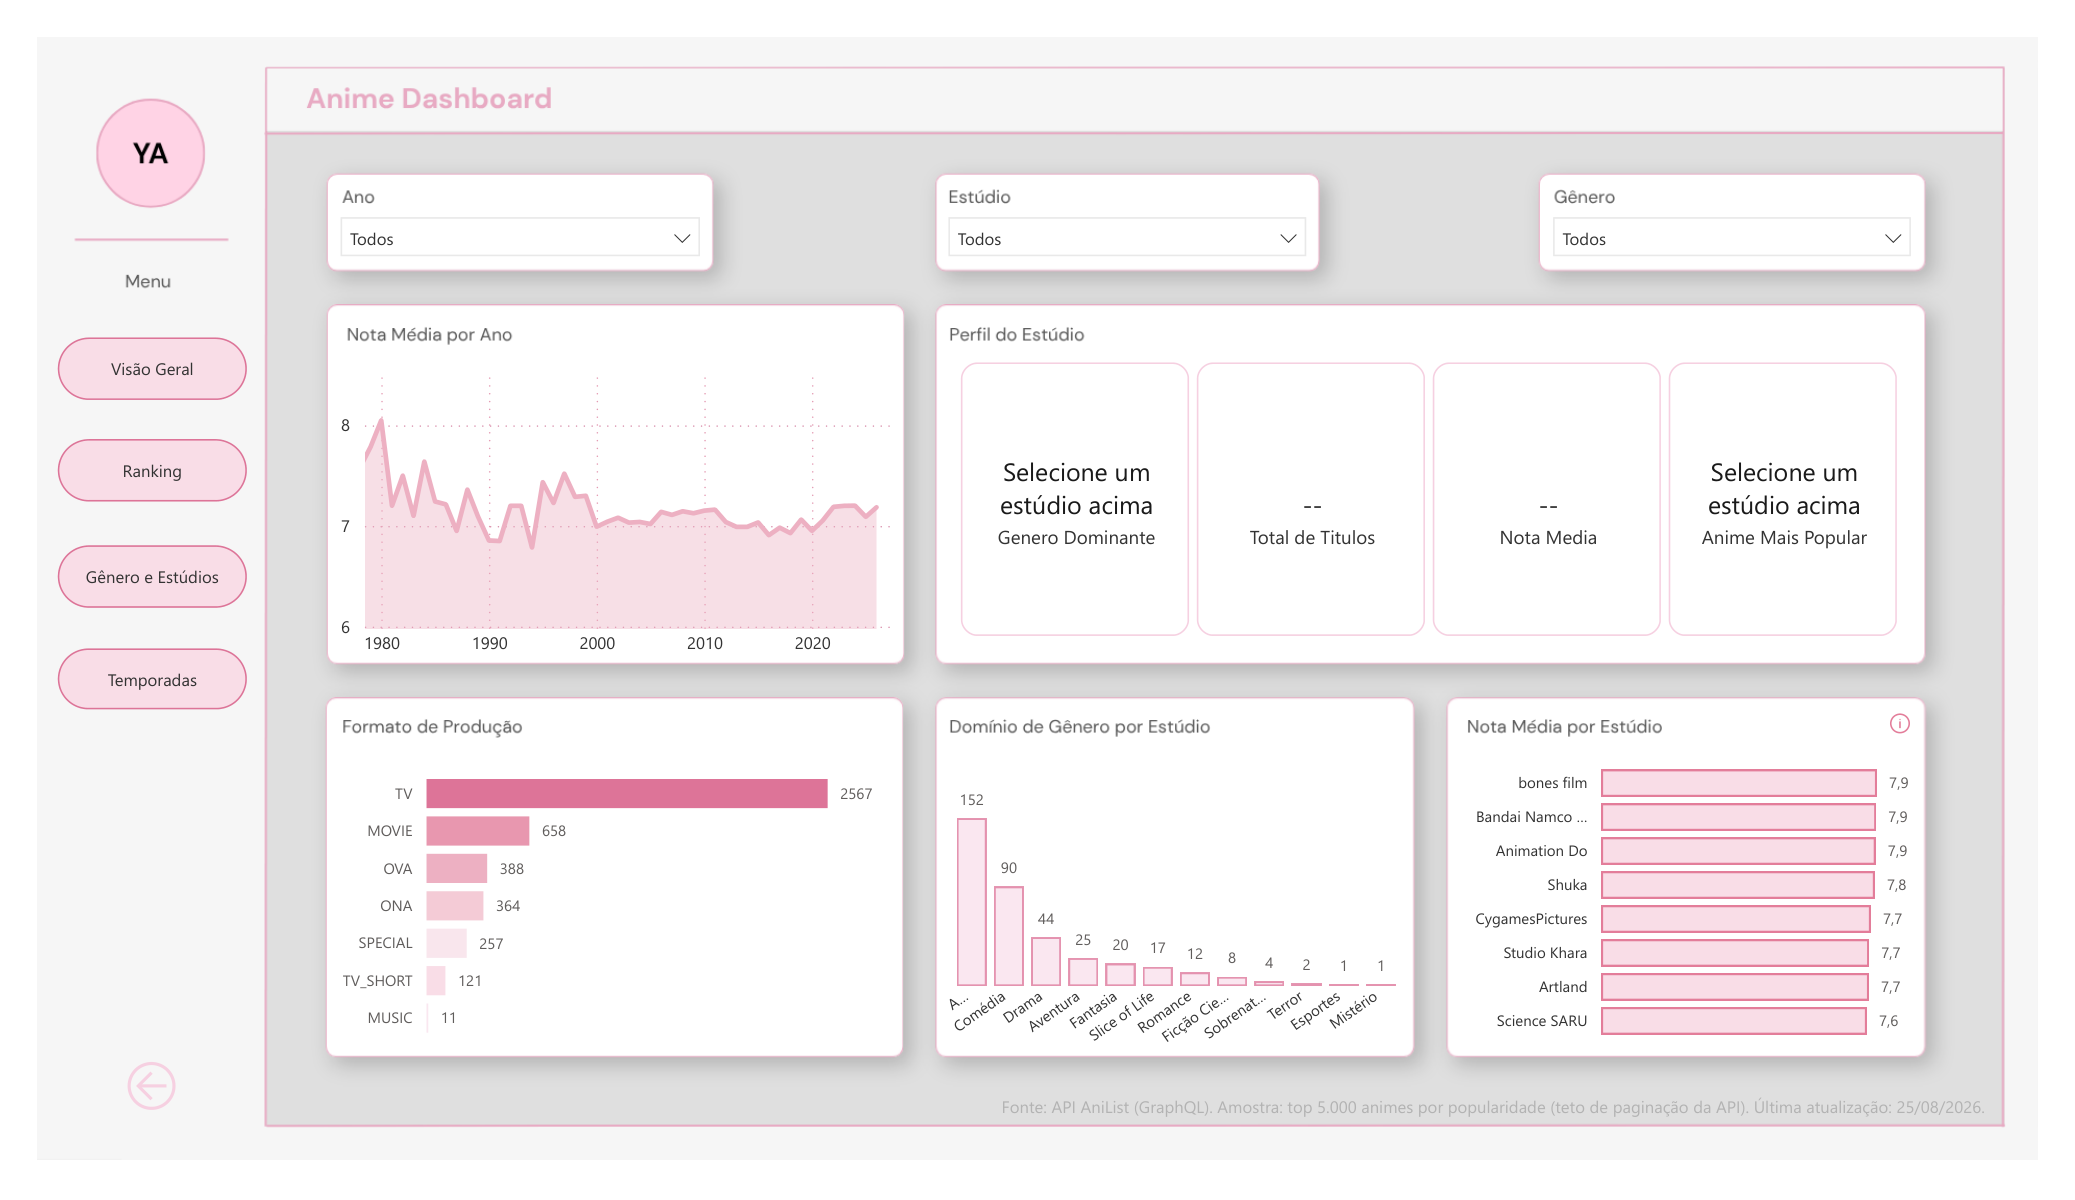

The page's visual inventory and layout, read from the dashboard file:
{"tool":"powerbi","page":{"name":"Gênero e Estúdios","canvas":[1280,720],"ordinal":2},"visuals":[{"type":"slicer","title":"Ano","fields":{"Values":["dim_anime.ano_texto"]},"box":[184.3,105.2,249.9,34.8],"z":0},{"type":"slicer","fields":{"Values":["dim_genero.nome_genero_pt"]},"box":[959.8,105.2,249.2,45.9],"z":1000},{"type":"slicer","fields":{"Values":["dim_estudio.nome_estudio"]},"box":[573.4,105.2,249,45],"z":2000},{"type":"lineChart","fields":{"Category":["dim_anime.ano"],"Y":["Medidas.Nota Media"]},"box":[189.4,202.2,364.8,204.1],"z":3000},{"type":"barChart","fields":{"Category":["dim_anime.tipo"],"Y":["Medidas.Total de Animes"]},"box":[184.5,452.2,369.1,199.6],"z":4000},{"type":"cardVisual","fields":{"Data":["Medidas.Genero Dominante (Estudio)","Medidas.Total de Titulos (Estudio)","Medidas.Nota Media (Estudio)","Medidas.Anime Mais Popular (Estudio)"]},"box":[573.5,190.7,635.5,209.5],"z":5000},{"type":"columnChart","fields":{"Y":["Medidas.Qtd de Estudios"],"Category":["vw_genero_dominante_por_estudio.genero_dominante_pt"]},"box":[573.5,452.1,310.2,203],"z":6000},{"type":"shape","box":[12.8,192,121.2,39.5],"z":7000},{"type":"shape","box":[12.8,257,121.2,39.5],"z":8000},{"type":"shape","box":[12.8,325.3,121.2,39.5],"z":9000},{"type":"shape","box":[12.8,391,121.2,39.5],"z":10000},{"type":"actionButton","box":[51.9,648.6,42.1,44.5],"z":11000},{"type":"clusteredBarChart","fields":{"Category":["dim_estudio.nome_estudio"],"Y":["Medidas.Nota Media"]},"box":[900.6,446.6,302,205.6],"z":12000},{"type":"actionButton","box":[1181.1,425,21.6,27.2],"z":13000},{"type":"textbox","box":[612.1,671.4,644.2,26.5],"z":14000}]}

Visuals, with their boxes on the page's 1280x720 design canvas (x1, y1, x2, y2). These are canvas units, not pixel positions in the 2075x1200 screenshot, which may show the page scaled, cropped or inside an application window:
"Ano" slicer: <region>184, 105, 434, 140</region>
slicer - dim_genero.nome_genero_pt: <region>960, 105, 1209, 151</region>
slicer - dim_estudio.nome_estudio: <region>573, 105, 822, 150</region>
lineChart - dim_anime.ano x Medidas.Nota Media: <region>189, 202, 554, 406</region>
barChart - dim_anime.tipo x Medidas.Total de Animes: <region>184, 452, 554, 652</region>
cardVisual - Medidas.Genero Dominante (Estudio) x Medidas.Total de Titulos (Estudio): <region>574, 191, 1209, 400</region>
columnChart - Medidas.Qtd de Estudios x vw_genero_dominante_por_estudio.genero_dominante_pt: <region>574, 452, 884, 655</region>
shape: <region>13, 192, 134, 232</region>
shape: <region>13, 257, 134, 296</region>
shape: <region>13, 325, 134, 365</region>
shape: <region>13, 391, 134, 430</region>
actionButton: <region>52, 649, 94, 693</region>
clusteredBarChart - dim_estudio.nome_estudio x Medidas.Nota Media: <region>901, 447, 1203, 652</region>
actionButton: <region>1181, 425, 1203, 452</region>
textbox: <region>612, 671, 1256, 698</region>
